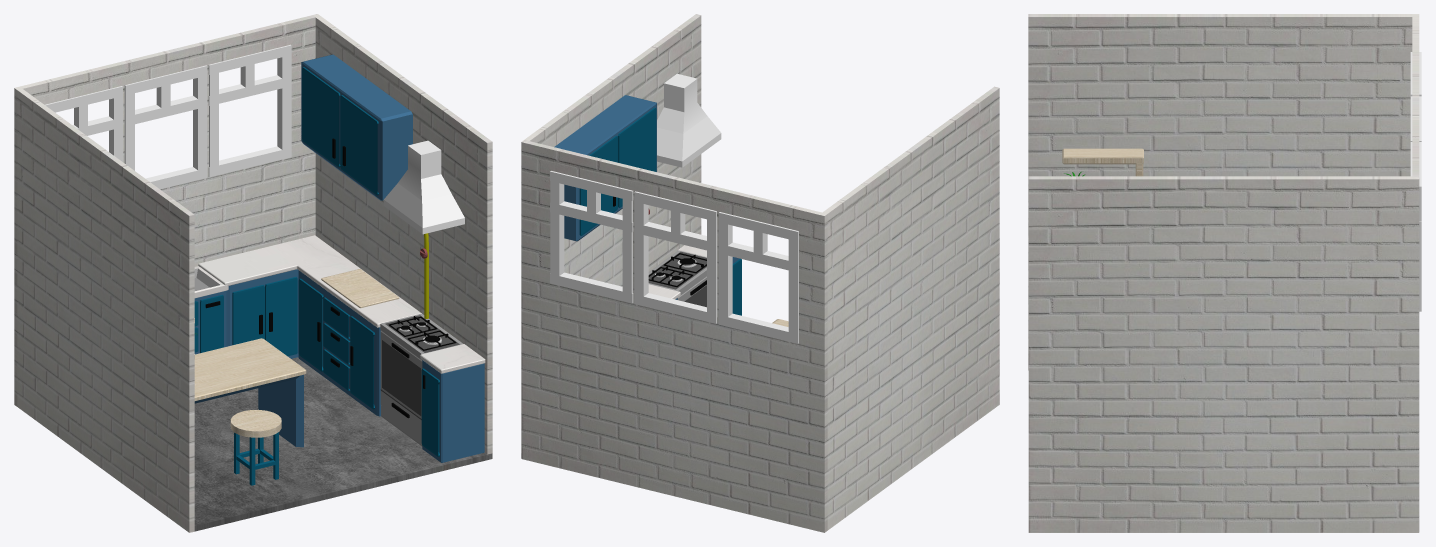
File: Kitchen.fbx
3 renders of one model, left to right at view 1: azimuth 30°, elevation 25°; view 2: azimuth 150°, elevation 25°; view 3: azimuth 270°, elevation 25°, orthographic. The views are drawn at different scales.
Visible parts, largest first — view 1: pCube4, pCube2, pCube3, pCube1, pCube28, pCube61, pCube62, pCube68, pCube27, pCube56, pCube64, pCube63 (+29 smaller); view 2: pCube3, pCube4, pCube2, pCube62, pCube61, pCube63, pCube6, pCube8, pCube9, pCube57, pCube5, pCube16 (+11 smaller); view 3: pCube2, pCube4, pCube3, pCube92.
Boxes of the visible parts, left/top/right/bottom form: pCube4: left=16, top=87, right=194, bottom=532; pCube2: left=313, top=14, right=492, bottom=458; pCube3: left=14, top=14, right=317, bottom=406; pCube1: left=194, top=357, right=492, bottom=531; pCube28: left=198, top=235, right=421, bottom=327; pCube61: left=301, top=54, right=412, bottom=200; pCube62: left=383, top=140, right=464, bottom=234; pCube68: left=194, top=338, right=306, bottom=400; pCube27: left=422, top=360, right=484, bottom=462; pCube56: left=380, top=330, right=422, bottom=446; pCube64: left=302, top=67, right=340, bottom=167; pCube63: left=340, top=95, right=378, bottom=195; pCube3: left=522, top=140, right=827, bottom=532; pCube4: left=822, top=86, right=999, bottom=530; pCube2: left=521, top=14, right=701, bottom=458; pCube62: left=657, top=73, right=721, bottom=167; pCube61: left=554, top=95, right=656, bottom=241; pCube63: left=618, top=107, right=656, bottom=207; pCube6: left=718, top=212, right=732, bottom=325; pCube8: left=550, top=173, right=564, bottom=285; pCube9: left=634, top=192, right=648, bottom=304; pCube57: left=648, top=250, right=706, bottom=294; pCube5: left=788, top=230, right=798, bottom=343; pCube16: left=550, top=272, right=633, bottom=303; pCube2: left=1028, top=176, right=1418, bottom=532; pCube4: left=1028, top=14, right=1418, bottom=370; pCube3: left=1412, top=14, right=1419, bottom=532; pCube92: left=1062, top=148, right=1143, bottom=164.
Bounding box in the file's own units: 17.07 × 17.03 × 17.17.
